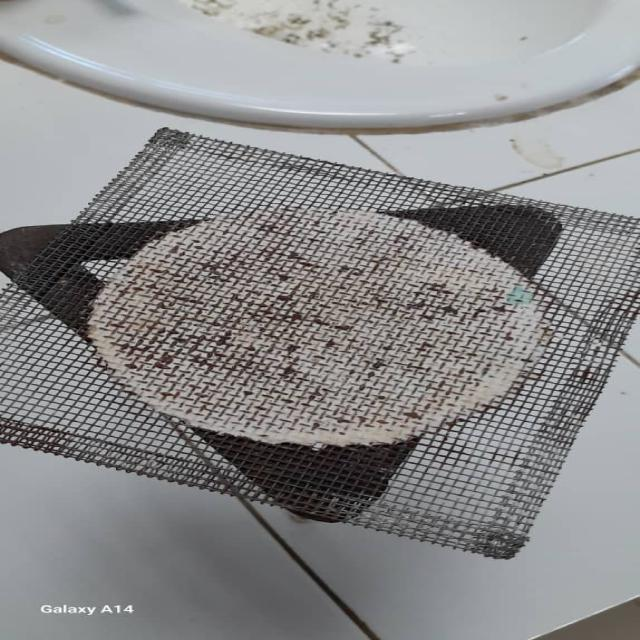Stand: (18, 186, 613, 528)
